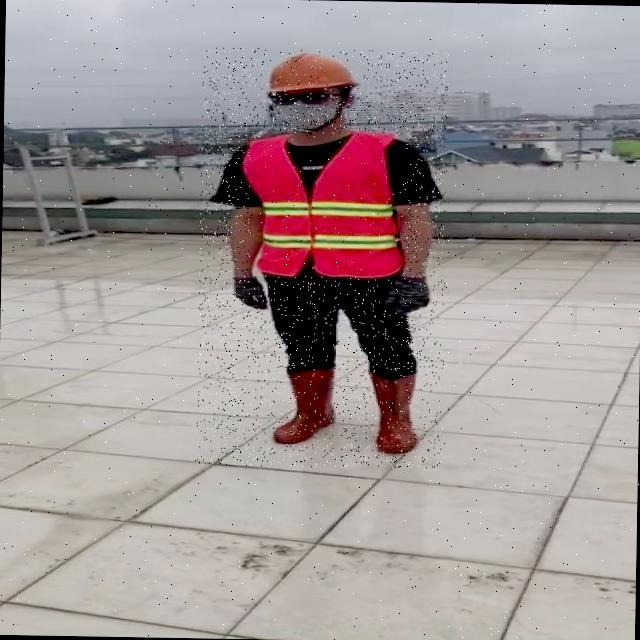boots: (276, 366, 338, 446), (368, 372, 422, 456)
helmet: (256, 48, 360, 94)
vest: (248, 132, 405, 278)
